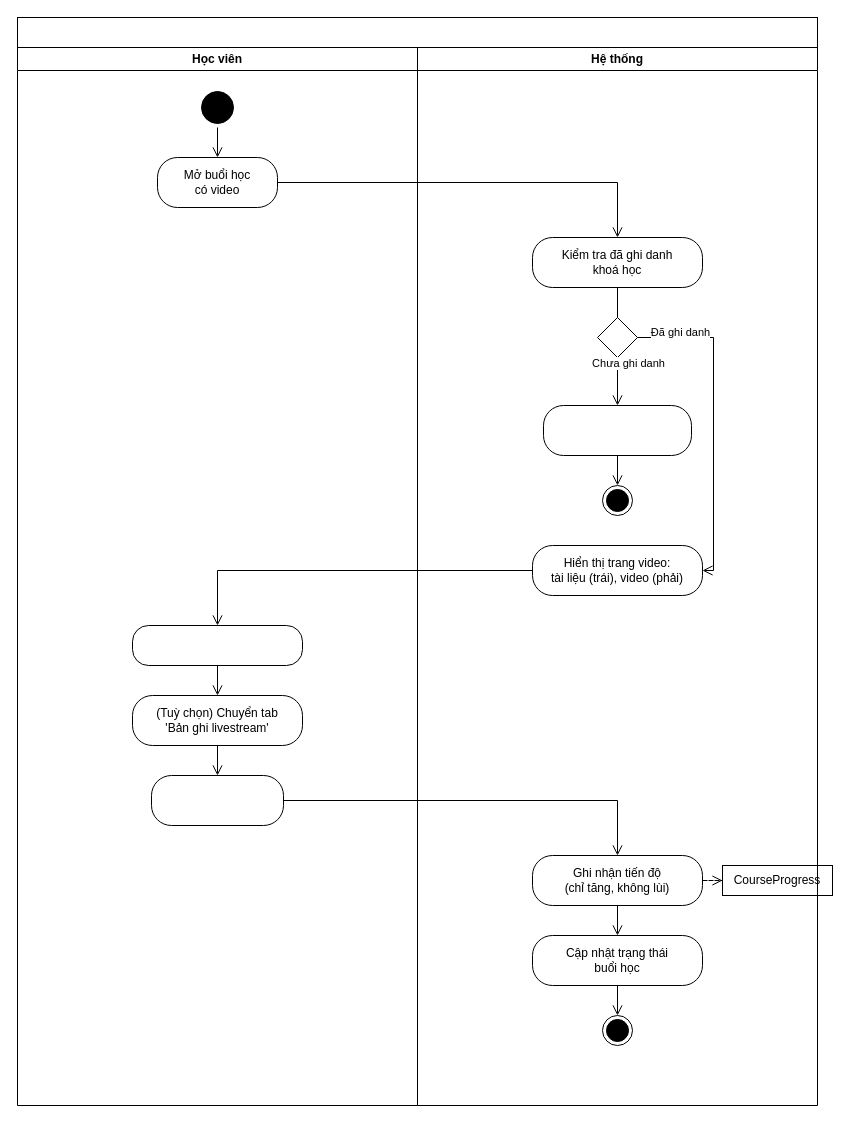
Image size: 850x1123. Some labels were removed from this diagram. Each missing label, with the centre of its shape:
"Hiển thị yêu cầu ghi danh trước" goes at [617,430].
"Nhấn 'Đánh dấu hoàn thành'" goes at [217,800].
"Xem video bài giảng" goes at [217,645].
"XEM VÀ ĐÁNH DẤU HOÀN THÀNH VIDEO BÀI GIẢNG" goes at [417,32].
